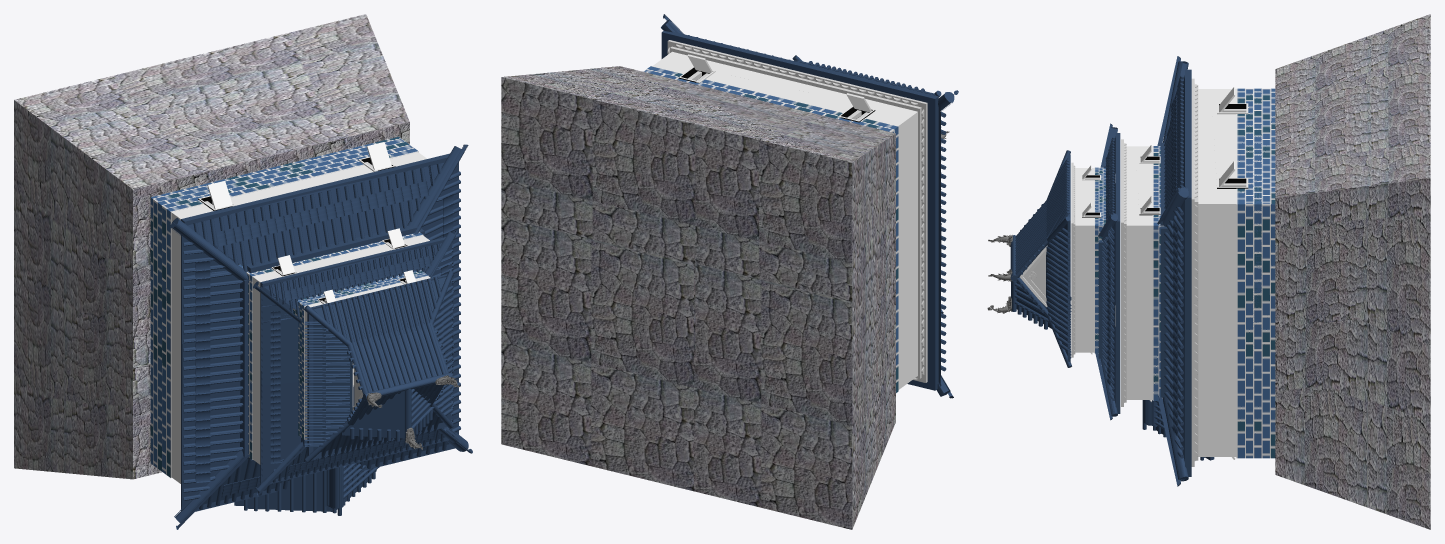
Rendered from shibatajo.glb.
3 renders of one model, left to right at view 1: azimuth 30°, elevation 25°; view 2: azimuth 150°, elevation 25°; view 3: azimuth 270°, elevation 25°, orthographic. The views are drawn at different scales.
Visible parts, largest first — view 1: 立方体.009; view 2: 立方体.009; view 3: 立方体.009.
Boxes of the visible parts, x1=… form: 立方体.009: x1=14, y1=14, x2=472, y2=529; 立方体.009: x1=501, y1=14, x2=958, y2=529; 立方体.009: x1=987, y1=14, x2=1430, y2=529.
Bounding box in the file's own units: 18.34 × 18.34 × 20.95.
Materials: 12 (8 with a texture image).
